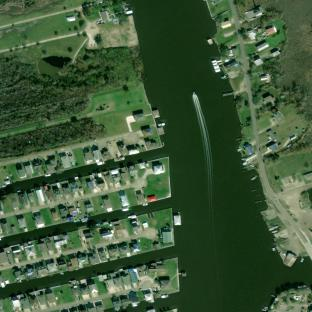Floresta: (0, 47, 142, 130), (0, 118, 106, 159)
